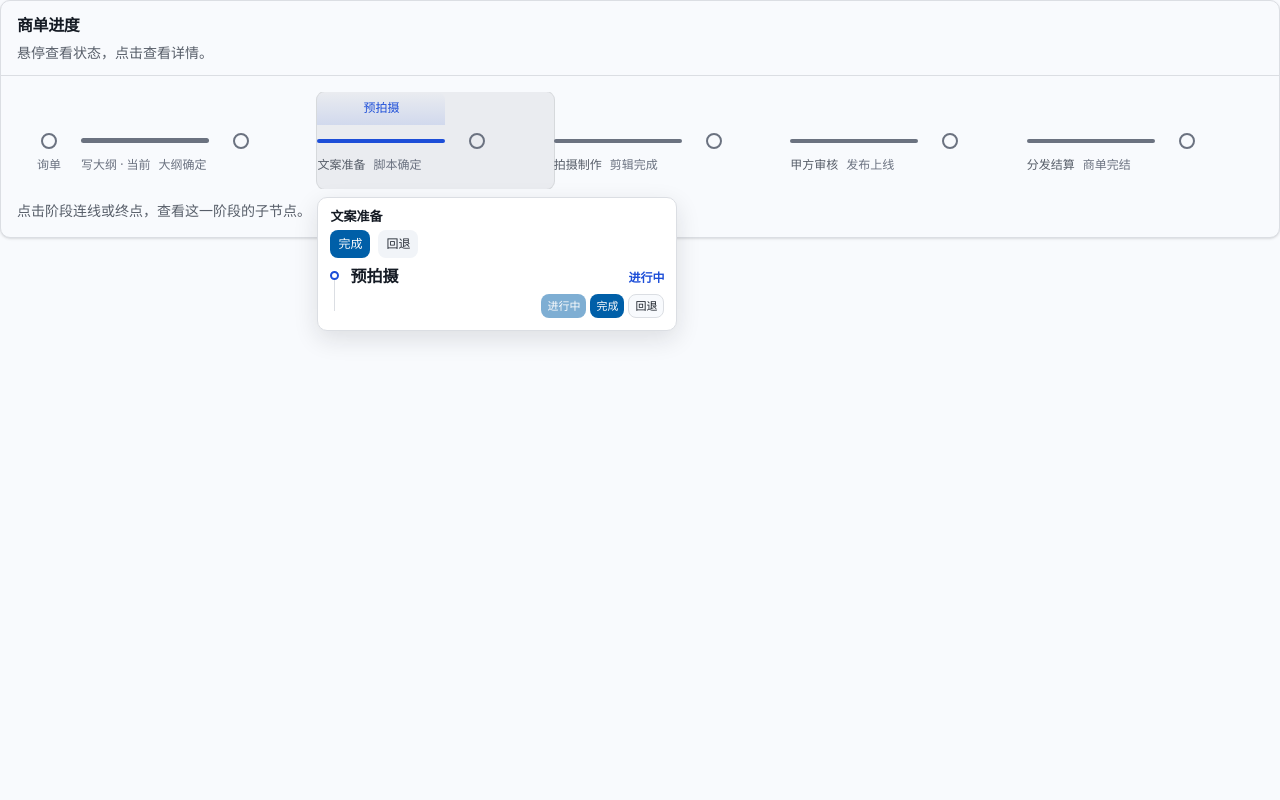
Test case: stage tooltip node actions › a refused write shows the server message inside the tooltip
Click the button with test id "tooltip-node-complete-pre_shoot" at (607,306), box [590,294,624,318]
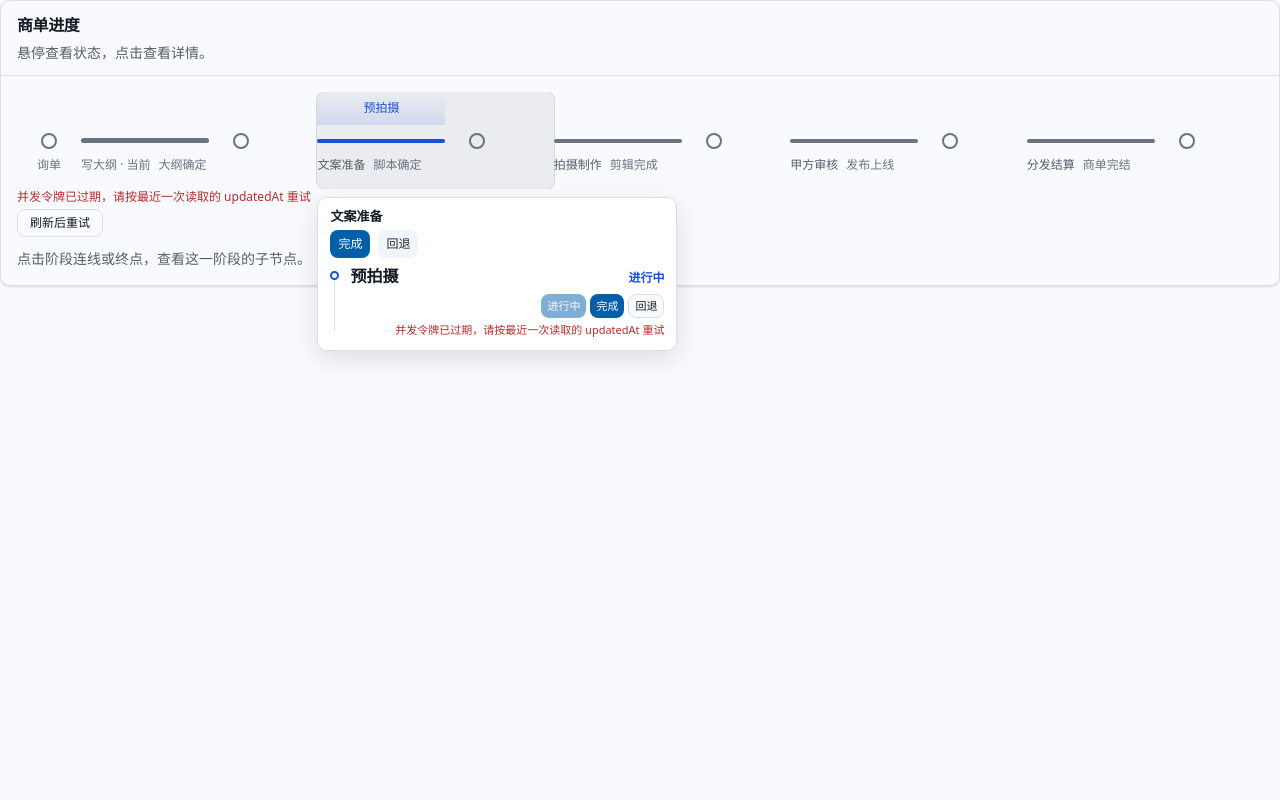
Expected: the dialog with test id "progress-stage-tooltip" is shown, [317,196,677,352]
Expected: the message with test id "tooltip-node-error-pre_shoot" shows "并发令牌已过期", [395,322,664,337]
